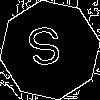S: (25, 25, 66, 76)
